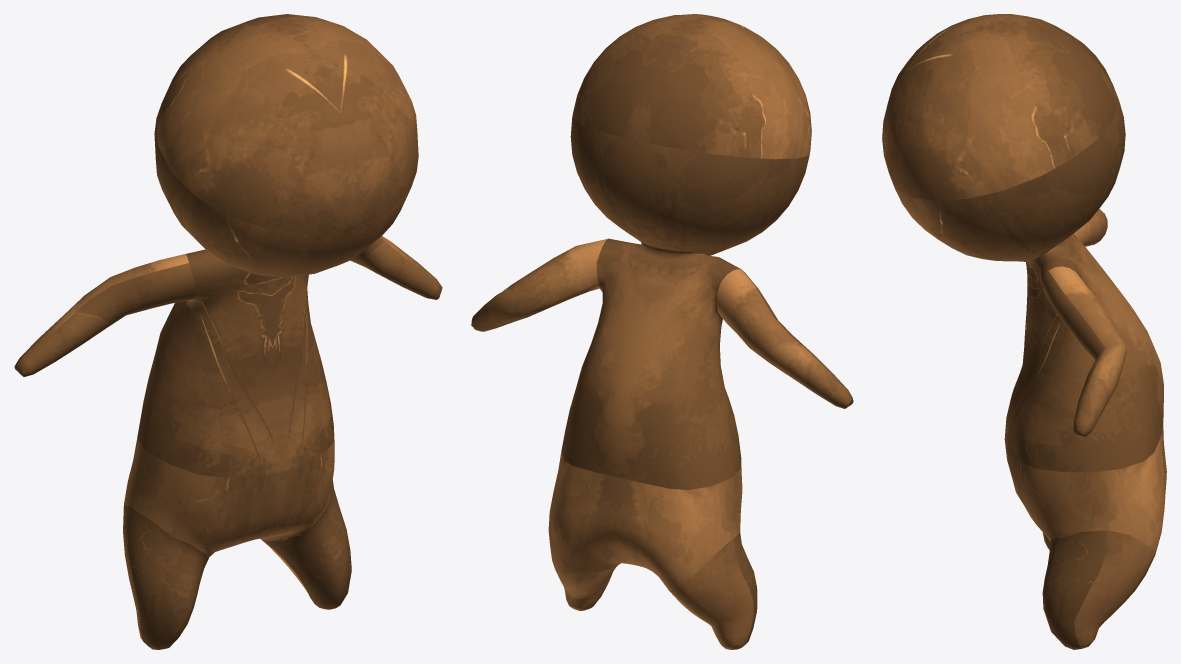
File: encontrArtefato.fbx
The picture shows the model from 3 angles, left to right: view 1: azimuth 30°, elevation 25°; view 2: azimuth 150°, elevation 25°; view 3: azimuth 270°, elevation 25°; orthographic projection. The views are drawn at different scales.
Visible parts, largest first — view 1: polySurface12; view 2: polySurface12; view 3: polySurface12.
Part boxes in pixels (x1,y1,x2,y2): polySurface12: [14, 14, 442, 649]; polySurface12: [471, 14, 853, 649]; polySurface12: [882, 14, 1166, 649].
Size of the model in its own units: 41.84 by 59.89 by 26.37.
